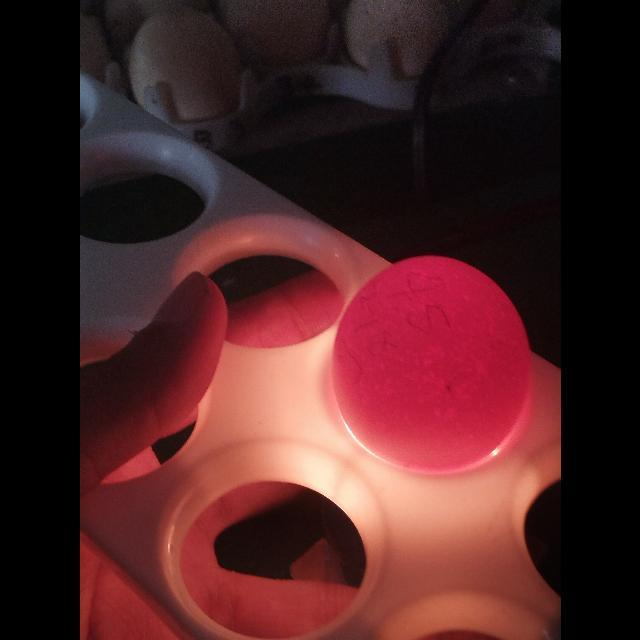Infertile: (326, 253, 536, 482)
